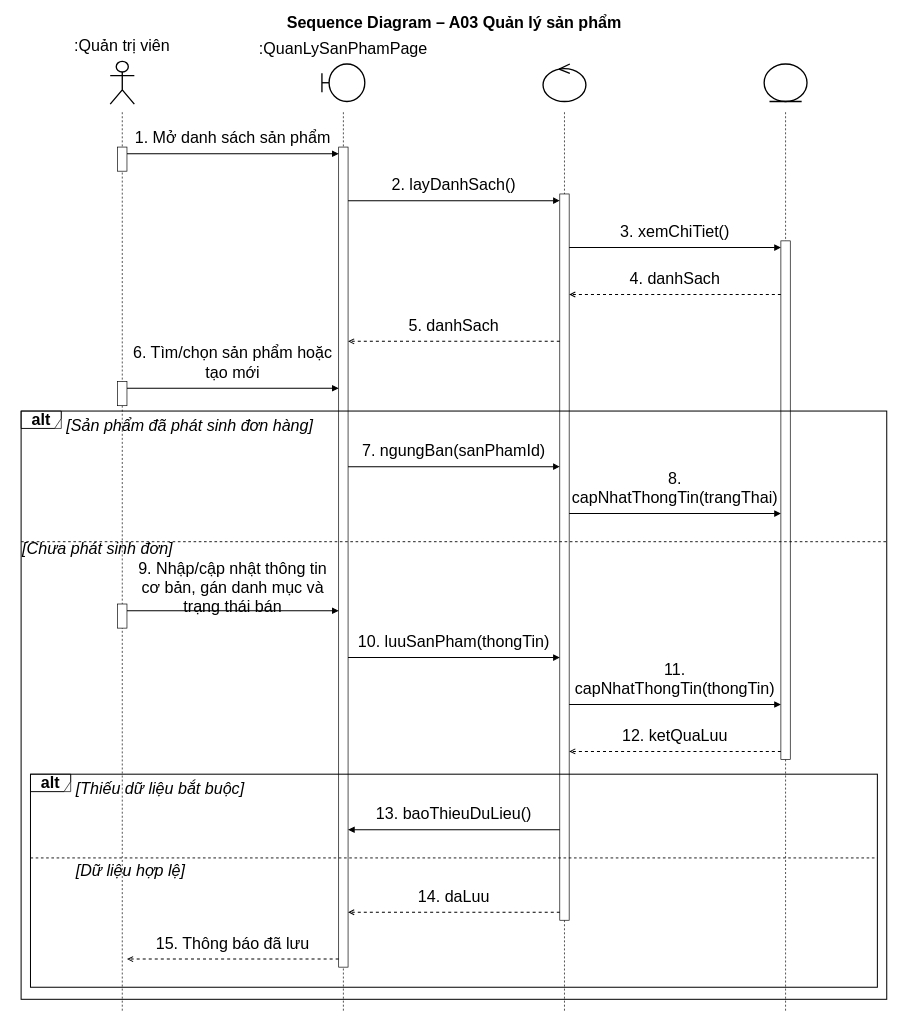
The diagram is 907 pixels wide and 1025 high, and some of its shapes have lost their labels. The shapes that lost their labels are listed below. From the top down, each one's box as (x1, y1, x2, y2) in pixels, then its label:
(542, 63, 586, 102): :QuanLySanPhamController
(763, 63, 807, 102): :SanPham
